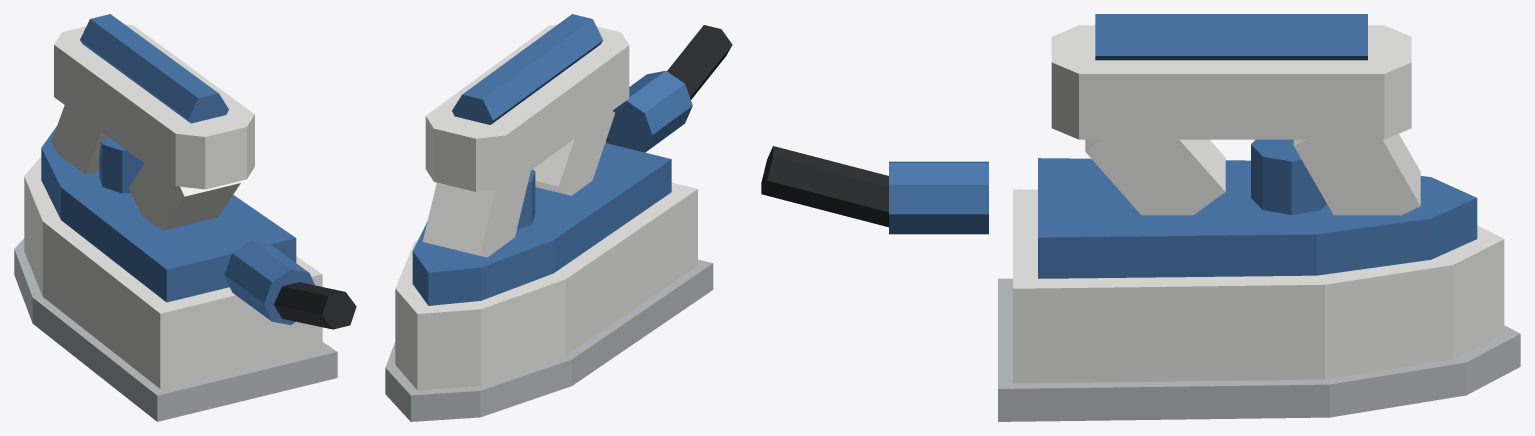
The model's file is SM_LPI_Util_Iron_01.fbx.
3 views of the same model, side by side, from view 1: azimuth 30°, elevation 25°; view 2: azimuth 150°, elevation 25°; view 3: azimuth 270°, elevation 25° (orthographic). The views are drawn at different scales.
Visible parts, largest first — view 1: SM_LPI_Util_Iron_01; view 2: SM_LPI_Util_Iron_01; view 3: SM_LPI_Util_Iron_01.
Boxes of the visible parts, x1,y1,x2,y2 form: SM_LPI_Util_Iron_01: (14,14,356,421); SM_LPI_Util_Iron_01: (385,14,732,421); SM_LPI_Util_Iron_01: (761,14,1520,421).
Size of the model in its own units: 0.115 by 0.1683 by 0.3343.
